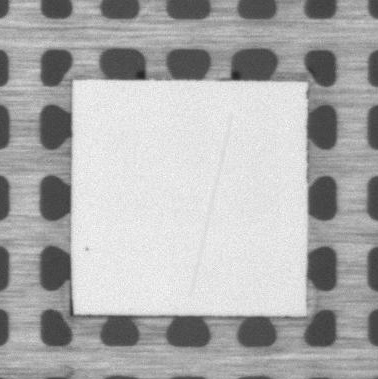DIE_CRACK: (191, 114, 232, 295)
